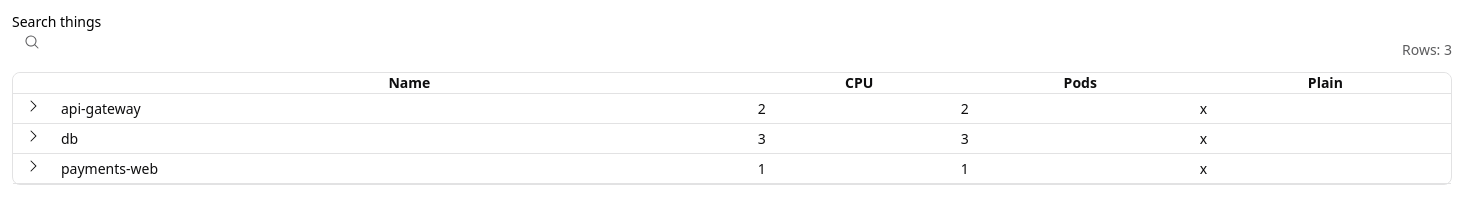
Scenario: data table › search
Type "WEB" into the search field labelled "Search things".
click(128, 48); type("WEB")  # box [12, 36, 243, 60]
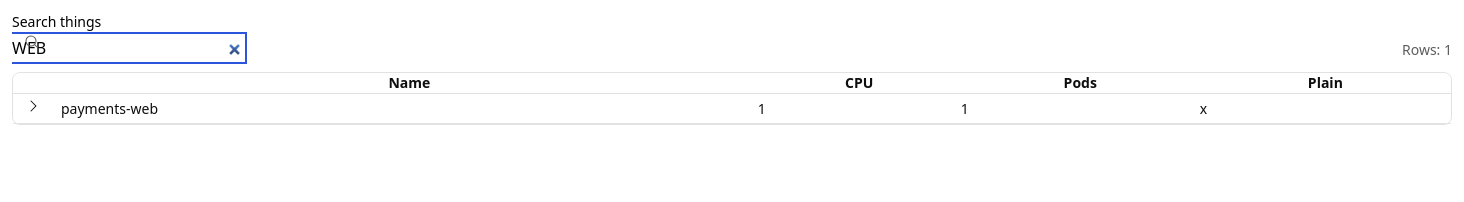
Now the text "Rows: 1" is shown, box [1402, 40, 1452, 60]
